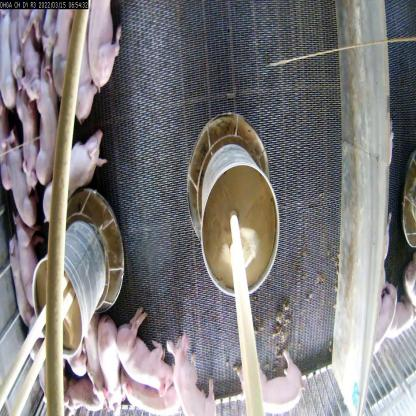Pig: (40, 130, 111, 222), (116, 310, 170, 398), (237, 359, 316, 415), (167, 336, 222, 415), (30, 63, 64, 184), (67, 5, 98, 127), (10, 85, 44, 196), (2, 138, 42, 229), (7, 220, 45, 306), (91, 1, 119, 99), (56, 353, 100, 413), (5, 232, 29, 337), (96, 322, 124, 408)
